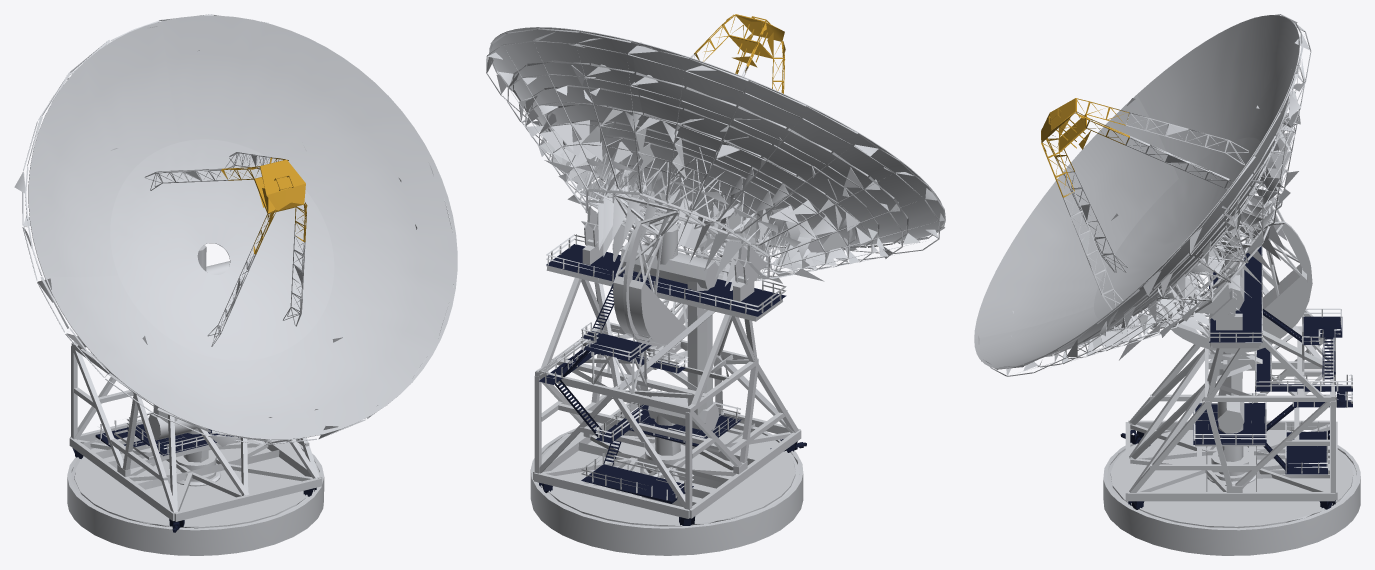
File: dish.glb
3 renders of one model, left to right at view 1: azimuth 30°, elevation 25°; view 2: azimuth 150°, elevation 25°; view 3: azimuth 270°, elevation 25°, orthographic. The views are drawn at different scales.
Visible parts, largest first — view 1: dish_tilt_mesh, dish_base_mesh, dish_head_mesh; view 2: dish_tilt_mesh, dish_head_mesh, dish_base_mesh; view 3: dish_tilt_mesh, dish_head_mesh, dish_base_mesh.
Part boxes in pixels (x1,y1,x2,y2): dish_tilt_mesh: (14, 14, 457, 446); dish_base_mesh: (67, 439, 324, 555); dish_head_mesh: (69, 245, 322, 532); dish_tilt_mesh: (486, 14, 945, 346); dish_head_mesh: (533, 223, 806, 525); dish_base_mesh: (530, 417, 803, 555); dish_tilt_mesh: (974, 14, 1312, 376); dish_head_mesh: (1120, 239, 1352, 509); dish_base_mesh: (1103, 430, 1360, 555).
Bounding box in the file's own units: 2.12 × 2.3 × 1.76.
